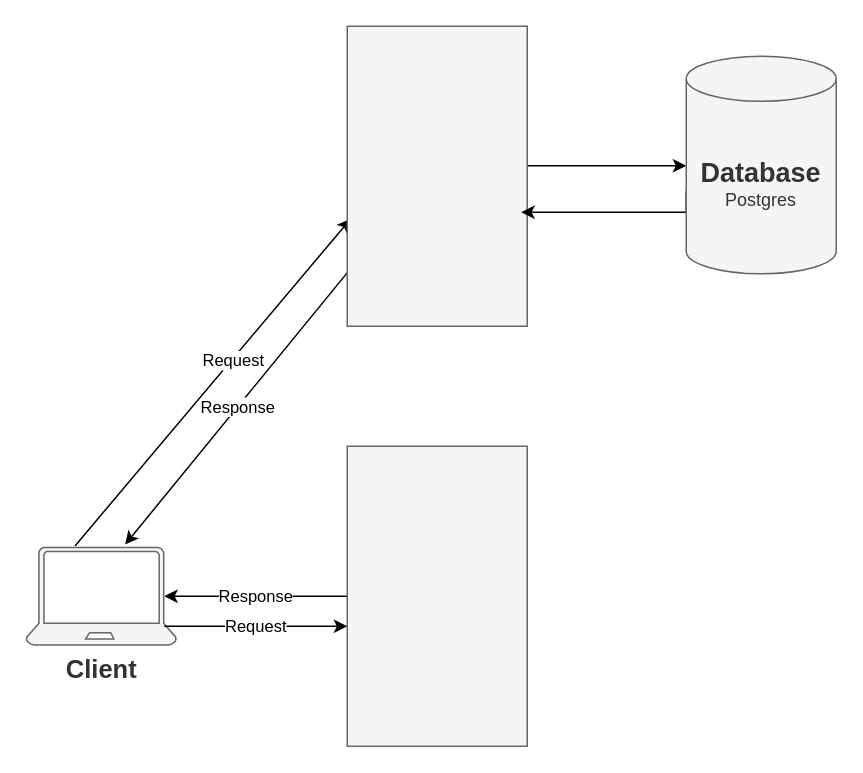
Image size: 863x773. Some labels were removed from this diagram. Here are the shapes that lost their labels. From the top down, the box of each, then its label:
(346, 25, 527, 326): REST API Django REST Framework
(346, 445, 527, 746): SPA React
